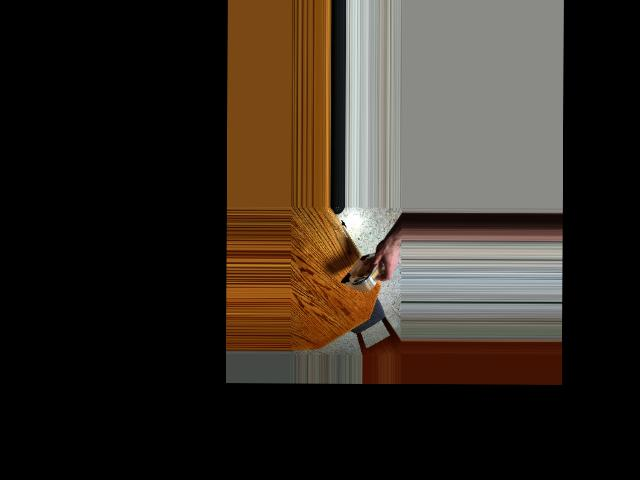cheese: (341, 241, 382, 298)
